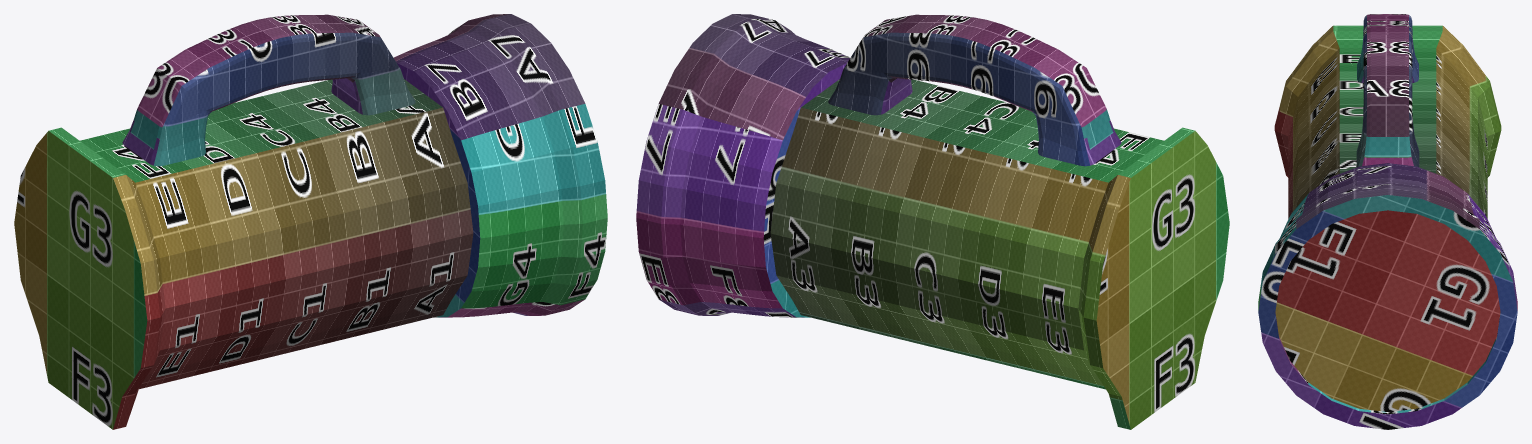
Rendered from flashlight.glb.
3 views of the same model, side by side, from view 1: azimuth 30°, elevation 25°; view 2: azimuth 150°, elevation 25°; view 3: azimuth 270°, elevation 25° (orthographic). The views are drawn at different scales.
Parts seen in each view (by area): view 1: Flashlight; view 2: Flashlight; view 3: Flashlight.
Part boxes in pixels (x1,y1,x2,y2): Flashlight: [14, 14, 607, 429]; Flashlight: [636, 14, 1229, 429]; Flashlight: [1258, 14, 1517, 429].
Bounding box in the file's own units: 0.8415 × 0.6001 × 0.4934.
1 material, 1 textured.
